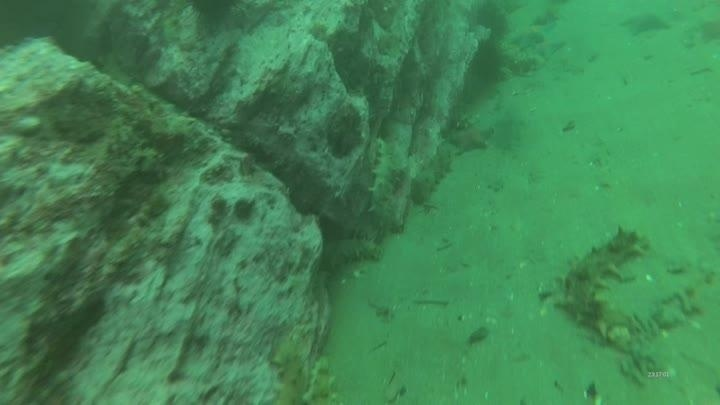echinus: (467, 39, 507, 88), (182, 1, 246, 31), (467, 2, 512, 41)
holothurian: (555, 223, 649, 345), (364, 131, 407, 233), (408, 142, 458, 209), (267, 332, 311, 405), (320, 235, 386, 272), (302, 352, 342, 404)
starfish: (443, 120, 495, 156), (618, 9, 675, 39), (507, 22, 553, 51), (531, 36, 567, 61)
